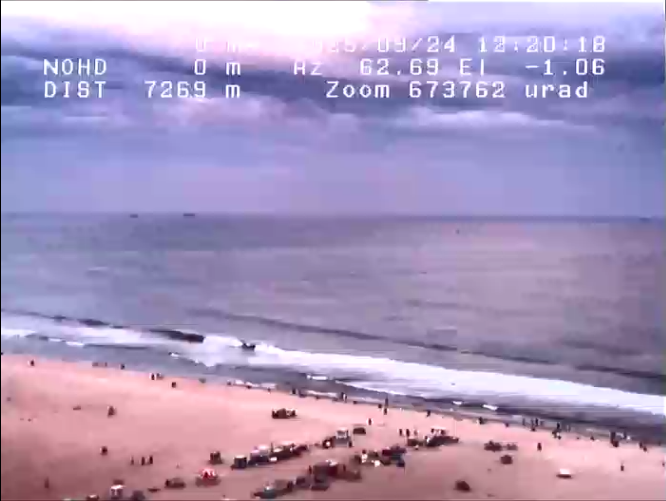TANKER: (177, 206, 196, 220)
